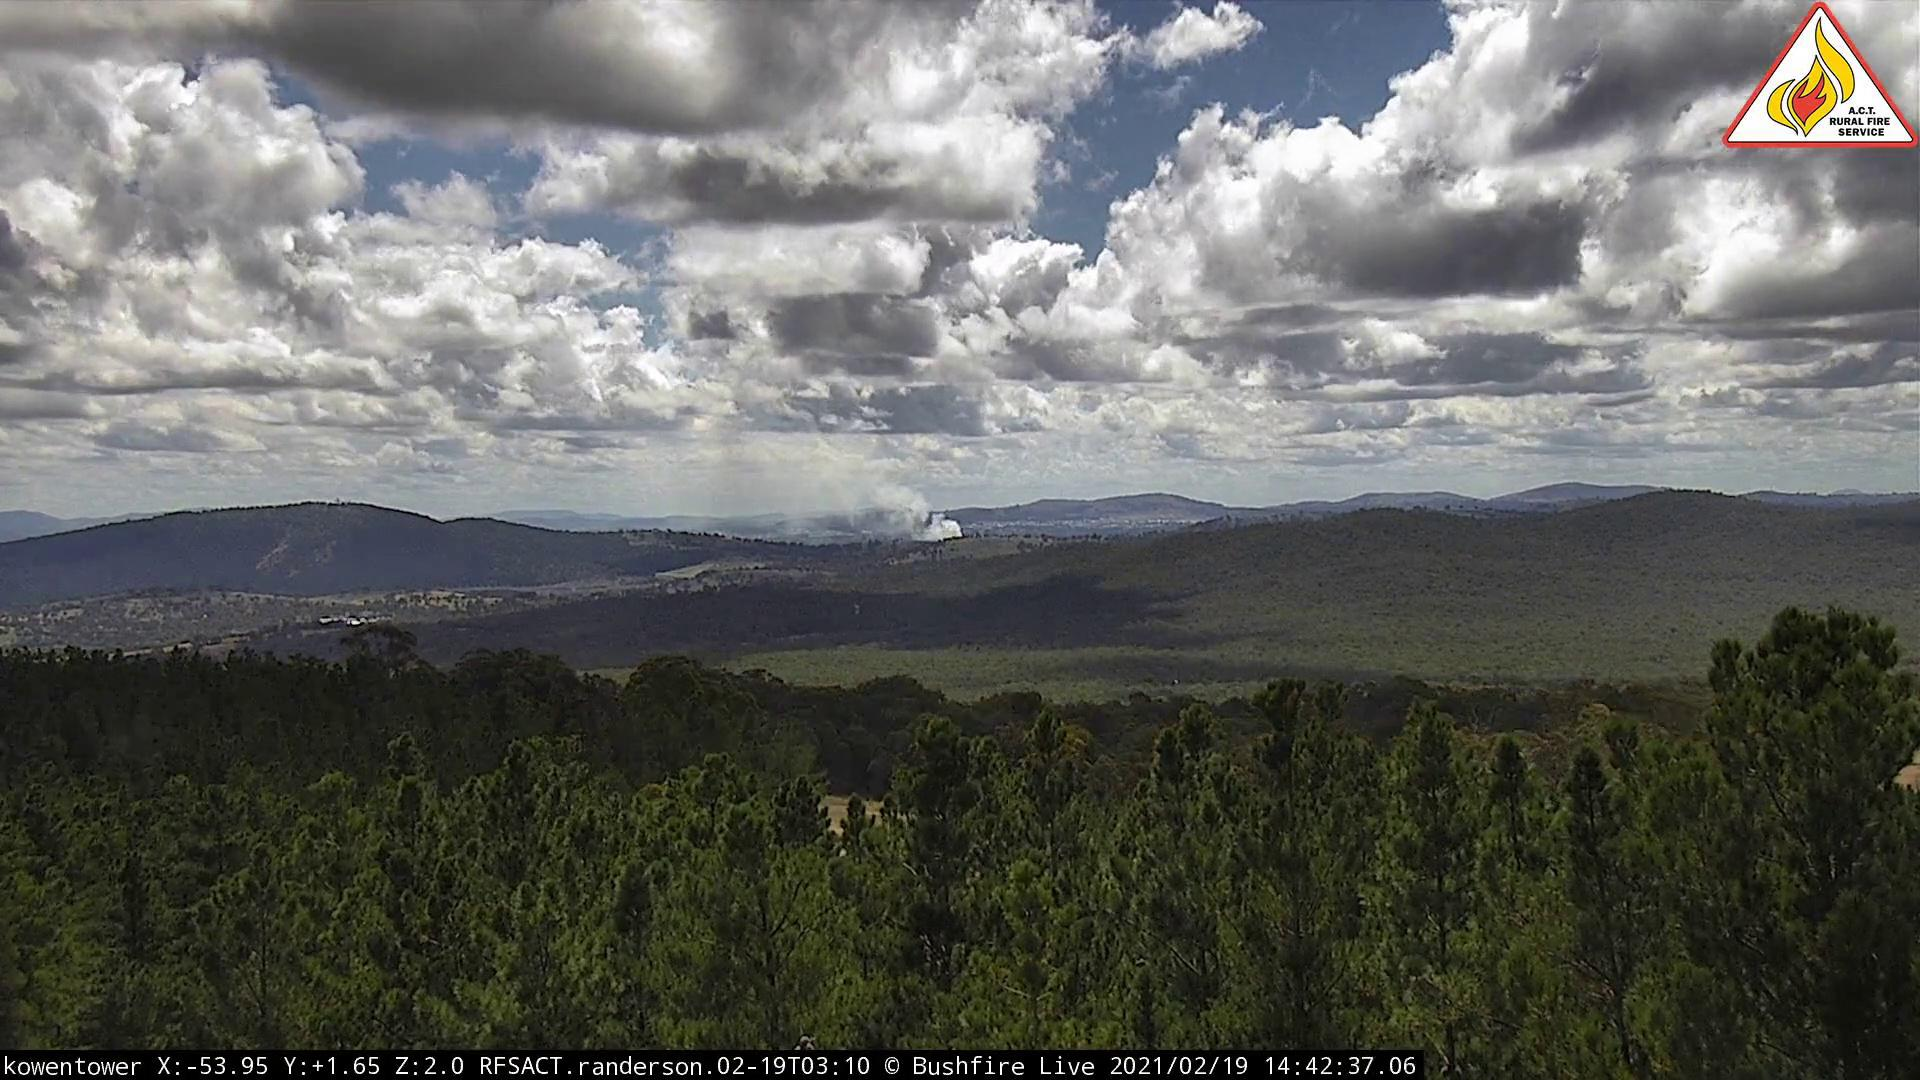Smoke: (675, 438, 968, 549)
